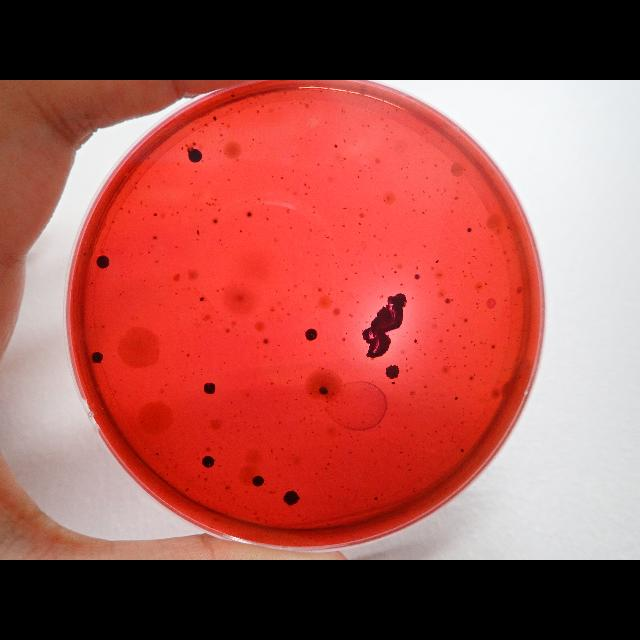colony: (282, 490, 302, 506), (188, 148, 205, 164), (96, 254, 110, 270), (386, 364, 400, 380), (201, 455, 215, 469), (252, 474, 266, 488), (304, 328, 318, 342), (91, 351, 103, 364), (202, 382, 215, 394), (318, 386, 329, 396), (198, 296, 206, 304), (246, 210, 252, 218), (153, 234, 159, 242), (212, 218, 218, 224), (445, 298, 451, 304), (414, 274, 420, 280), (224, 484, 230, 490), (263, 338, 269, 344), (213, 115, 217, 122), (374, 495, 378, 501), (460, 447, 464, 453), (192, 142, 198, 146), (334, 143, 338, 149), (466, 228, 472, 232), (266, 216, 270, 222), (205, 476, 208, 482), (153, 213, 157, 217), (454, 396, 458, 400), (464, 318, 468, 322), (231, 94, 235, 98), (392, 381, 396, 385), (155, 452, 159, 456), (83, 252, 87, 256), (280, 176, 284, 180), (215, 198, 218, 202), (436, 260, 438, 264), (186, 487, 188, 491), (328, 456, 332, 458), (324, 467, 328, 469), (354, 495, 358, 497), (90, 282, 94, 284), (128, 210, 130, 214), (141, 201, 143, 205), (148, 185, 150, 189), (218, 208, 220, 212), (304, 183, 306, 187), (318, 162, 320, 166), (357, 175, 359, 179), (358, 170, 362, 172), (216, 289, 218, 293), (341, 486, 344, 488), (165, 384, 168, 386), (166, 366, 168, 369), (237, 334, 240, 336), (195, 170, 197, 173), (212, 202, 214, 205), (306, 192, 308, 195), (308, 187, 310, 190), (414, 340, 416, 342), (492, 346, 494, 348), (350, 452, 352, 454), (330, 450, 332, 452), (328, 463, 330, 465), (316, 473, 318, 475), (230, 480, 232, 482), (172, 451, 174, 453), (184, 376, 186, 378), (193, 372, 195, 374), (200, 374, 202, 376), (186, 362, 188, 364), (278, 344, 280, 346), (257, 347, 259, 349), (244, 330, 246, 332), (159, 286, 161, 288), (143, 279, 145, 281), (120, 274, 122, 276), (191, 183, 193, 185), (193, 193, 195, 195), (209, 204, 211, 206), (215, 204, 217, 206), (206, 202, 208, 204), (258, 198, 260, 200), (262, 203, 264, 205), (305, 174, 307, 176), (292, 170, 294, 172), (296, 154, 298, 156), (292, 155, 294, 157), (344, 158, 346, 160), (340, 160, 342, 162), (168, 371, 168, 373), (182, 375, 182, 377), (183, 380, 184, 380), (202, 368, 202, 369), (257, 342, 259, 342), (288, 188, 288, 190)
